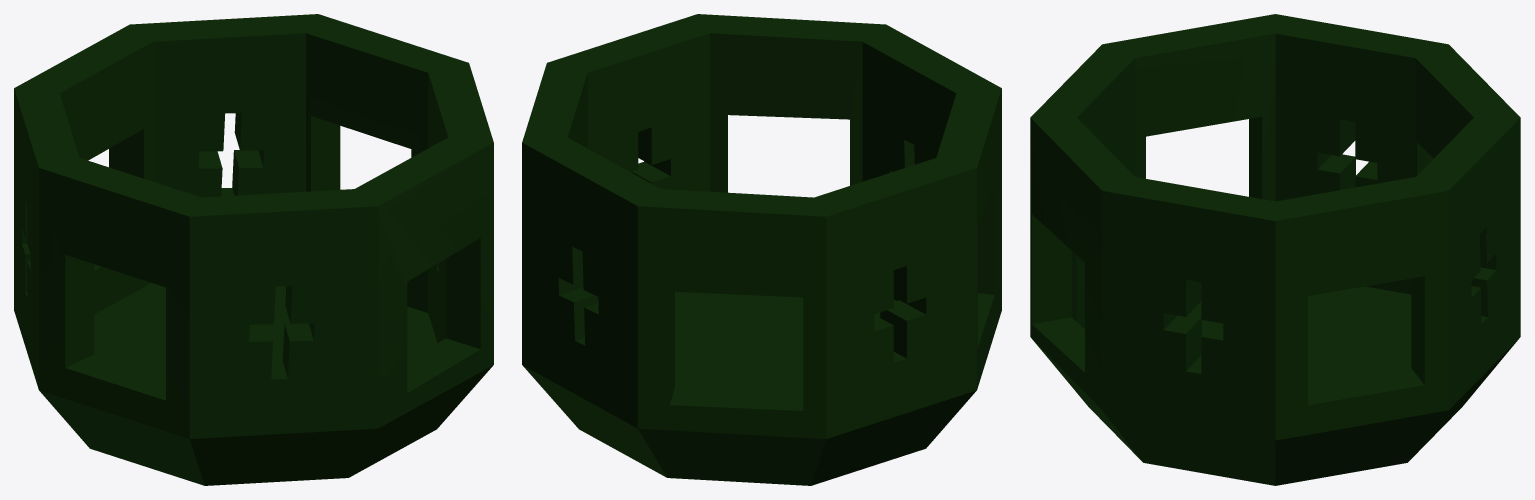
Rendered from round-tower-top-4.fbx.
3 views of the same model, side by side, from view 1: azimuth 30°, elevation 25°; view 2: azimuth 150°, elevation 25°; view 3: azimuth 270°, elevation 25° (orthographic).
Parts seen in each view (by area): view 1: round-tower-top-4; view 2: round-tower-top-4; view 3: round-tower-top-4.
Boxes of the visible parts, x1=… form: round-tower-top-4: x1=14, y1=14, x2=493, y2=485; round-tower-top-4: x1=522, y1=14, x2=1001, y2=485; round-tower-top-4: x1=1030, y1=14, x2=1520, y2=485.
Size of the model in its own units: 4.37 by 2.84 by 4.37.
